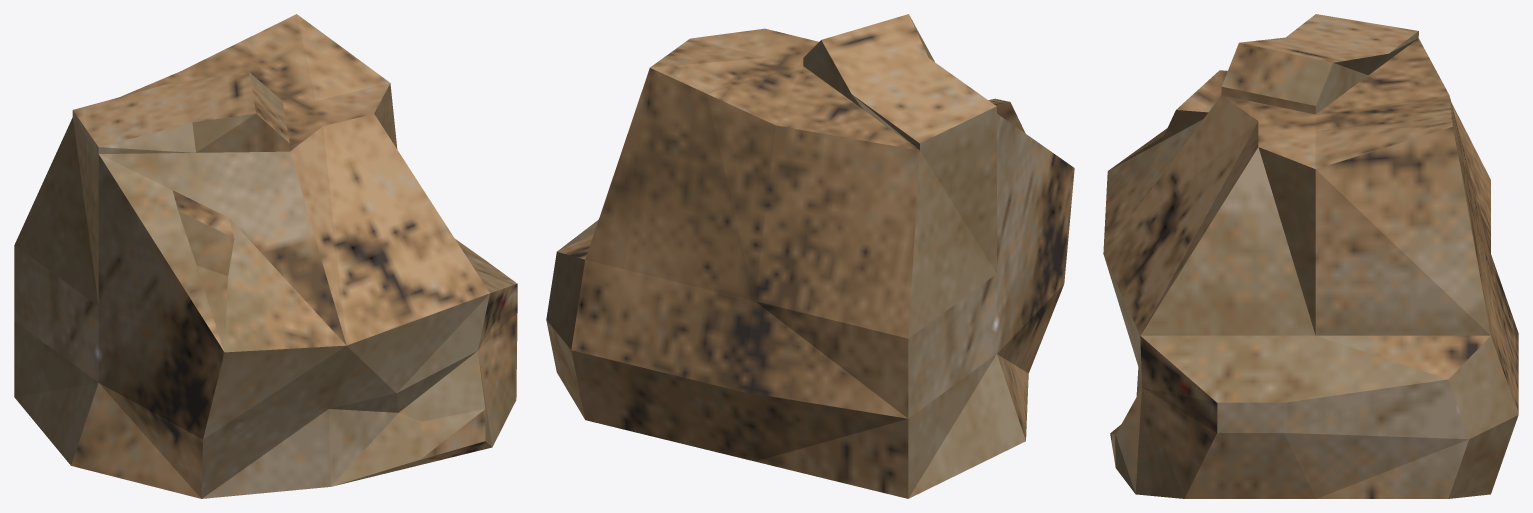
The model's file is Stone_C_Standard.fbx.
The picture shows the model from 3 angles, left to right: view 1: azimuth 30°, elevation 25°; view 2: azimuth 150°, elevation 25°; view 3: azimuth 270°, elevation 25°; orthographic projection. The views are drawn at different scales.
Visible parts, largest first — view 1: Stone_B_Standard; view 2: Stone_B_Standard; view 3: Stone_B_Standard.
Part boxes in pixels (<box>): Stone_B_Standard: <box>14,14,517,498</box>; Stone_B_Standard: <box>546,14,1074,498</box>; Stone_B_Standard: <box>1103,14,1518,498</box>.
Size of the model in its own units: 2.21 by 1.82 by 1.91.
